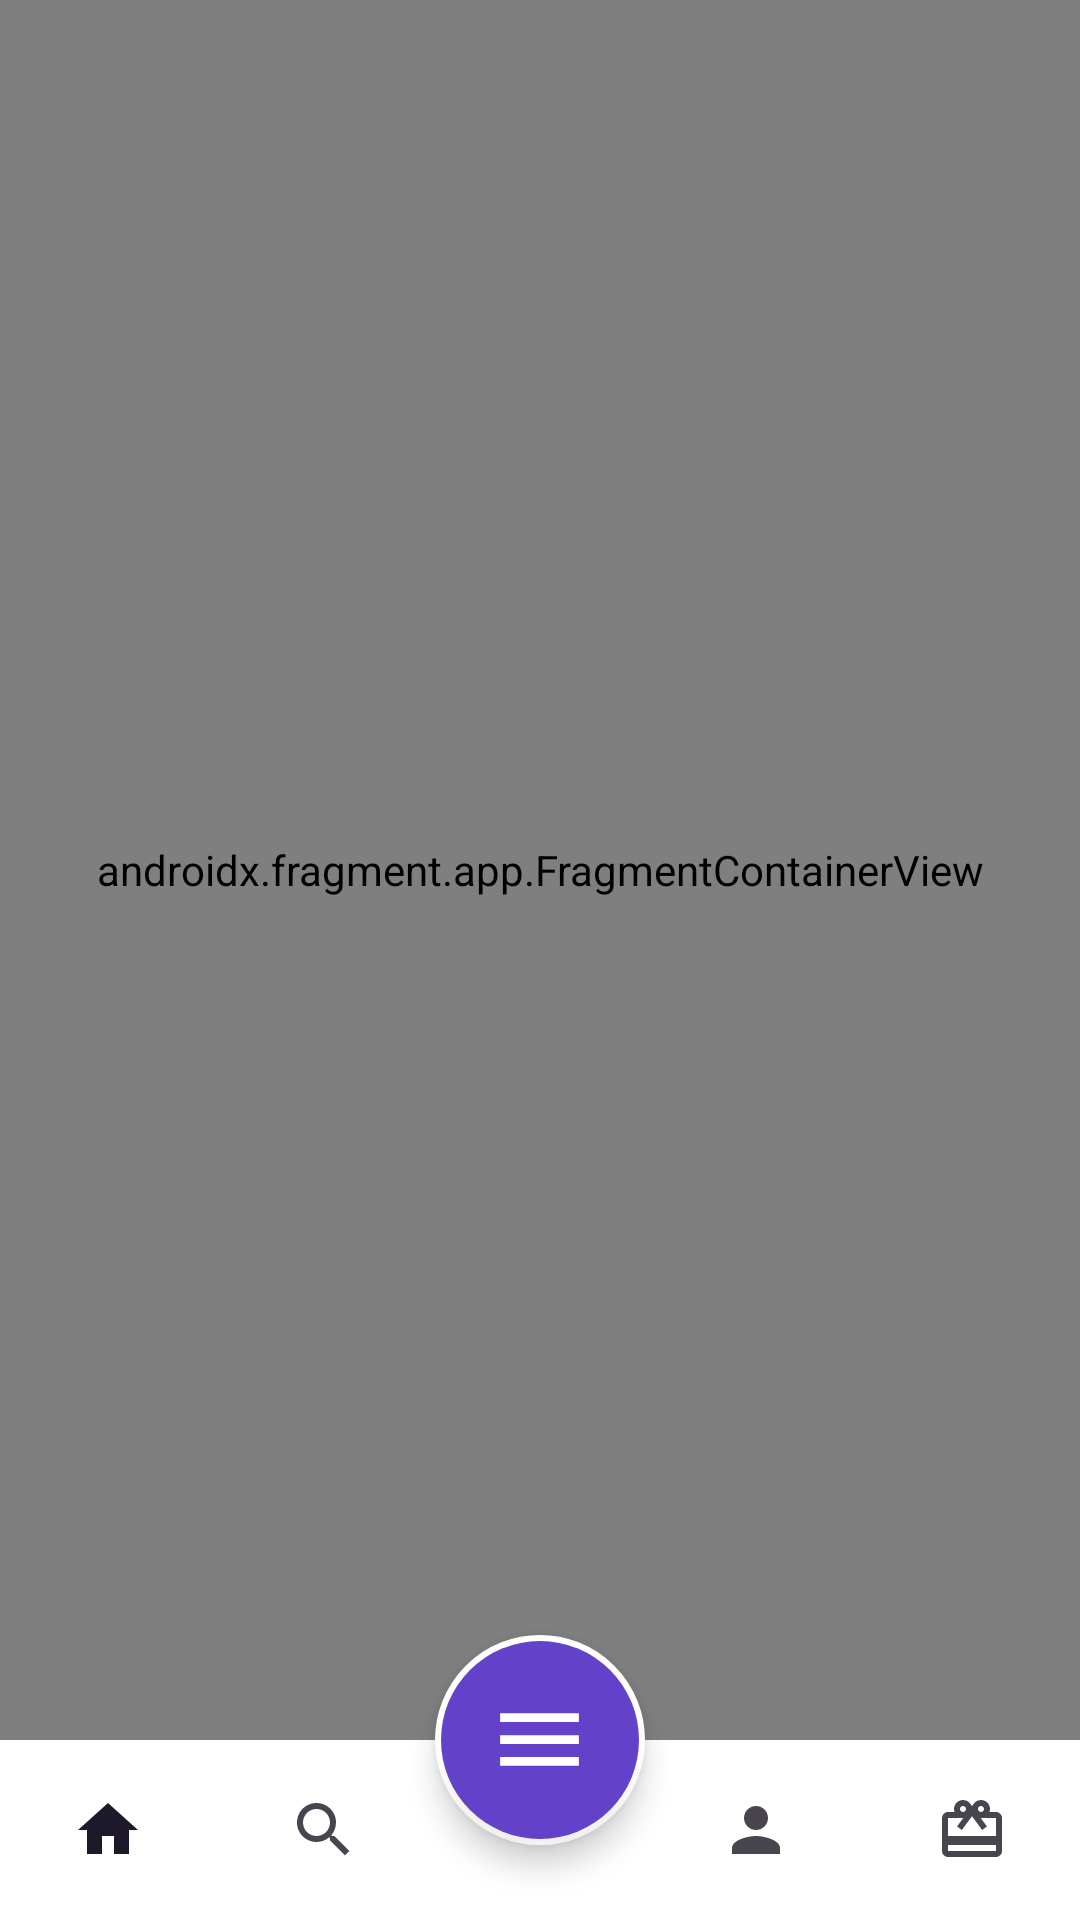

Point at icon controls on the screen. Image size 1080 x 1920, points as (x,y).
menu: (540,1740)
